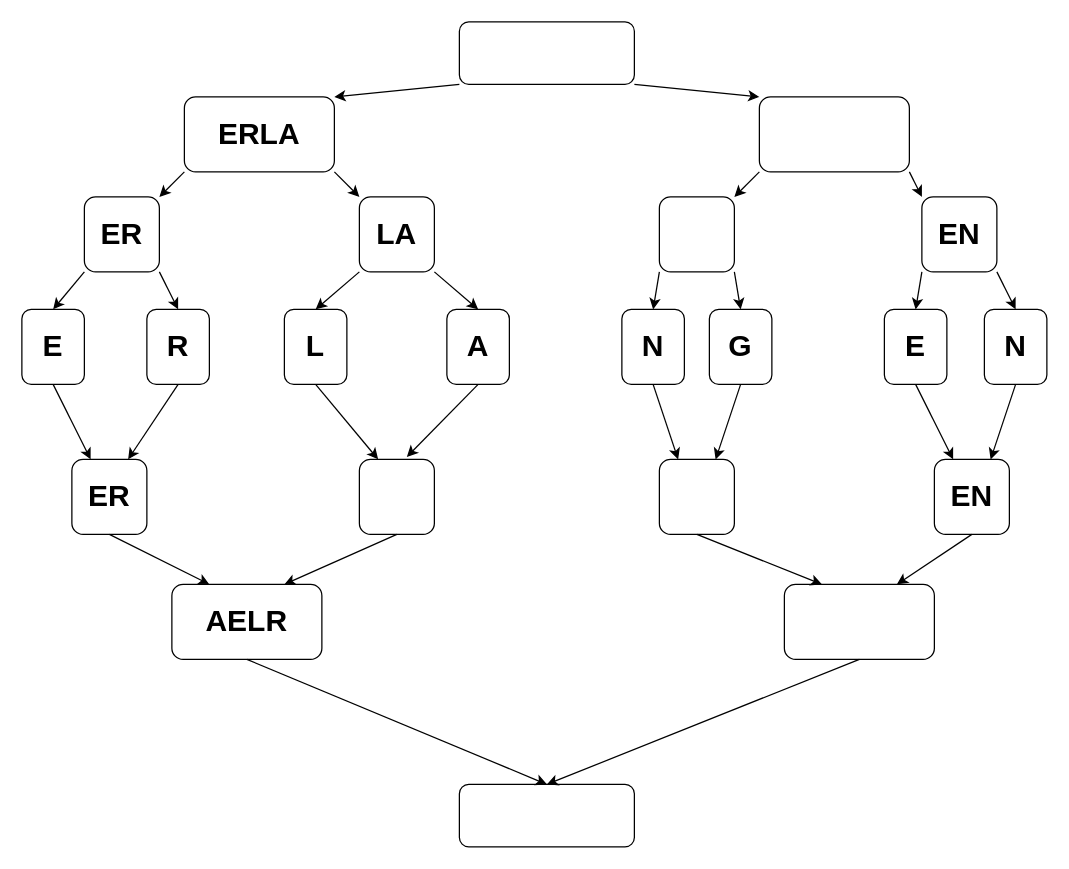
The diagram is 1069 pixels wide and 869 high, and some of its shapes have lost their labels. The centre of each missing label's shape, as x and y in pixels:
AEEGLNNR: [546,815]
AL: [396,496]
EGNN: [858,621]
ERLANGEN: [546,52]
GN: [696,496]
NG: [696,234]
NGEN: [833,134]
